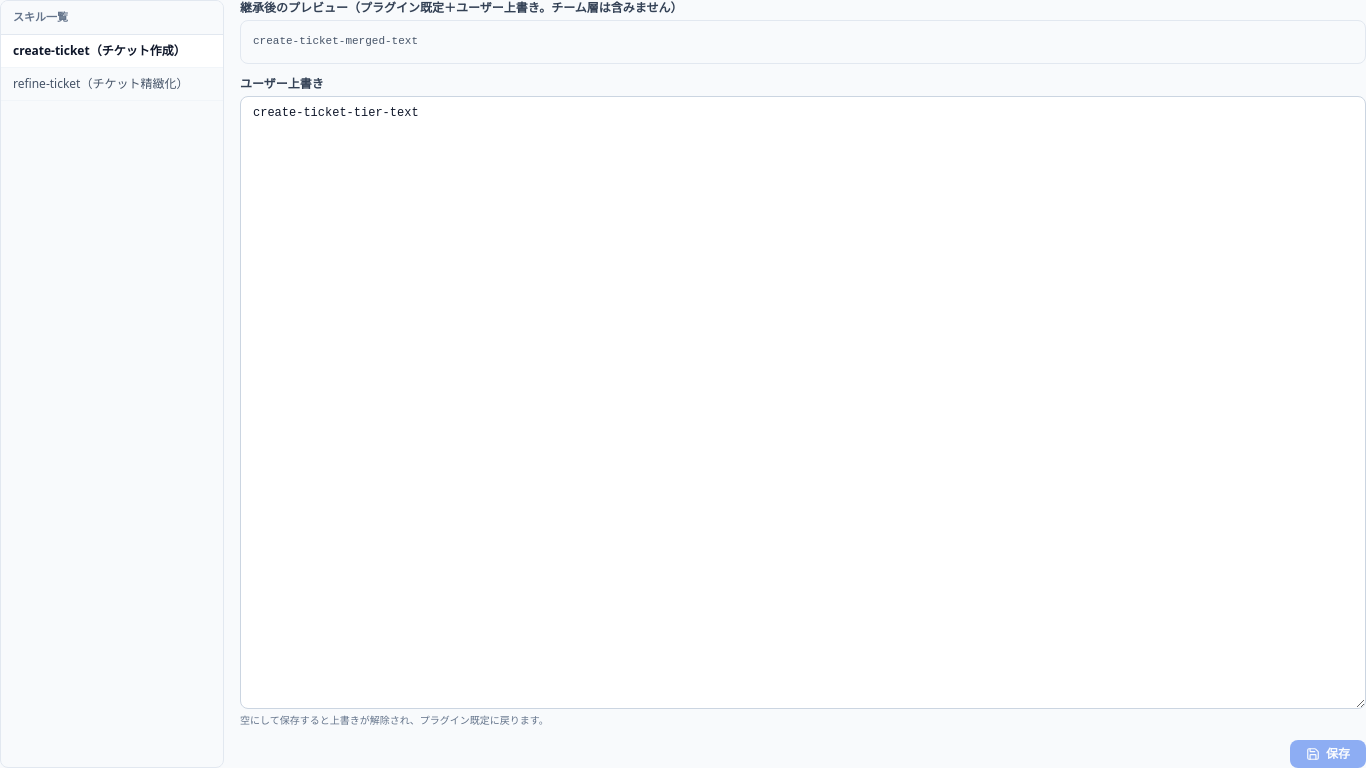
Test: SkillsEditor › switching the selection with unsaved edits › switches and clears the relayed dirty flag when the user confirms
The width and height of the screenshot is (1366, 768).
Replace the text in the text box showing "create-ticket-tier-text" with "unsaved edit" at (803, 402), box 240,96 -> 1365,709
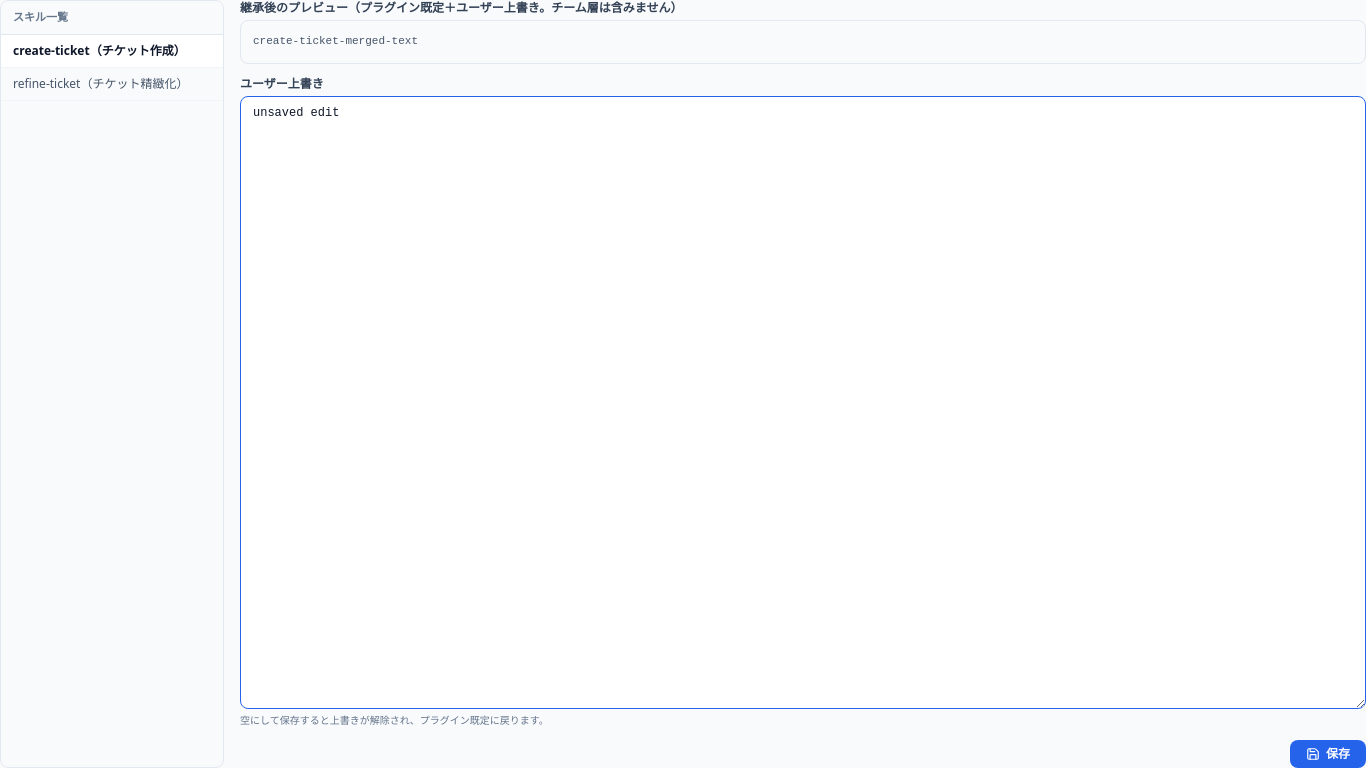
Click the button "refine-ticket（チケット精緻化）".
click(112, 84)  # box 1,68 -> 223,100
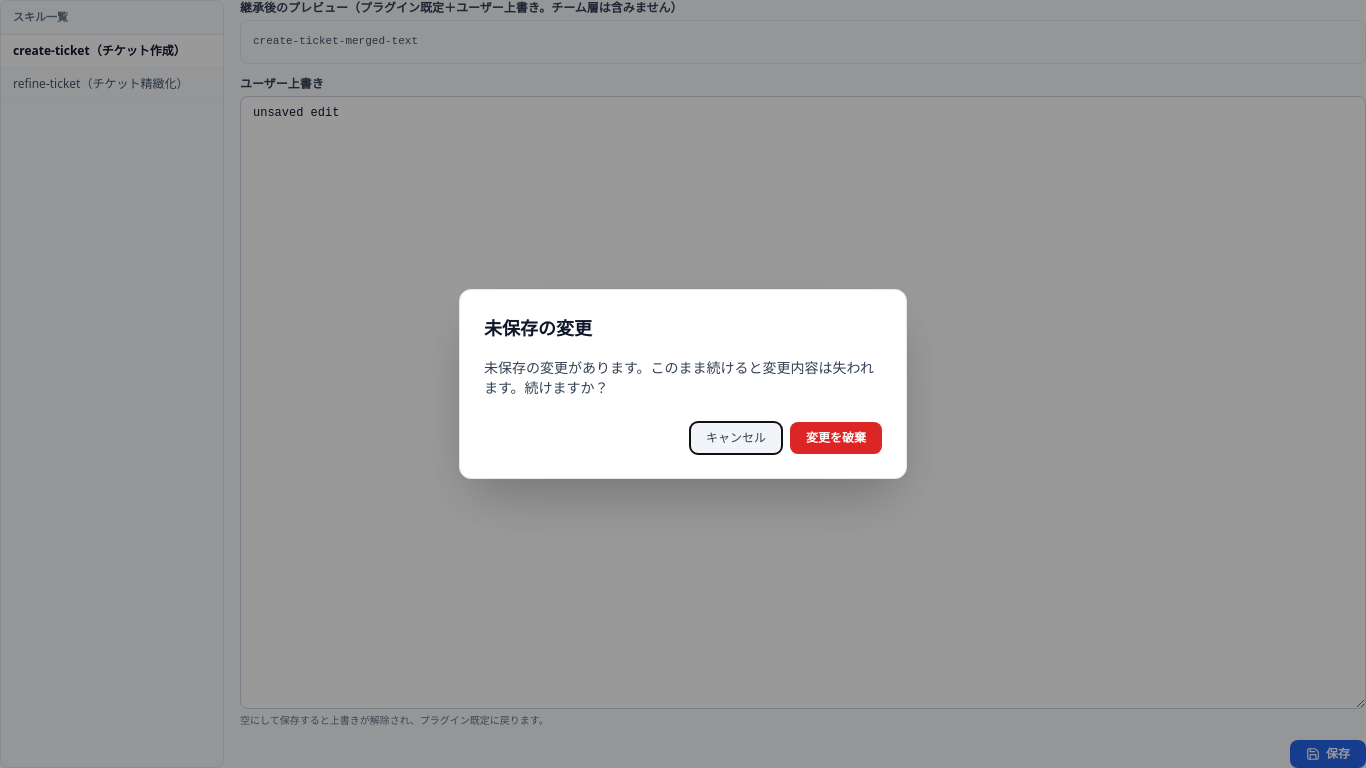
Click the button with test id "skill-discard-confirm-confirm".
click(836, 438)  # box 790,422 -> 882,454
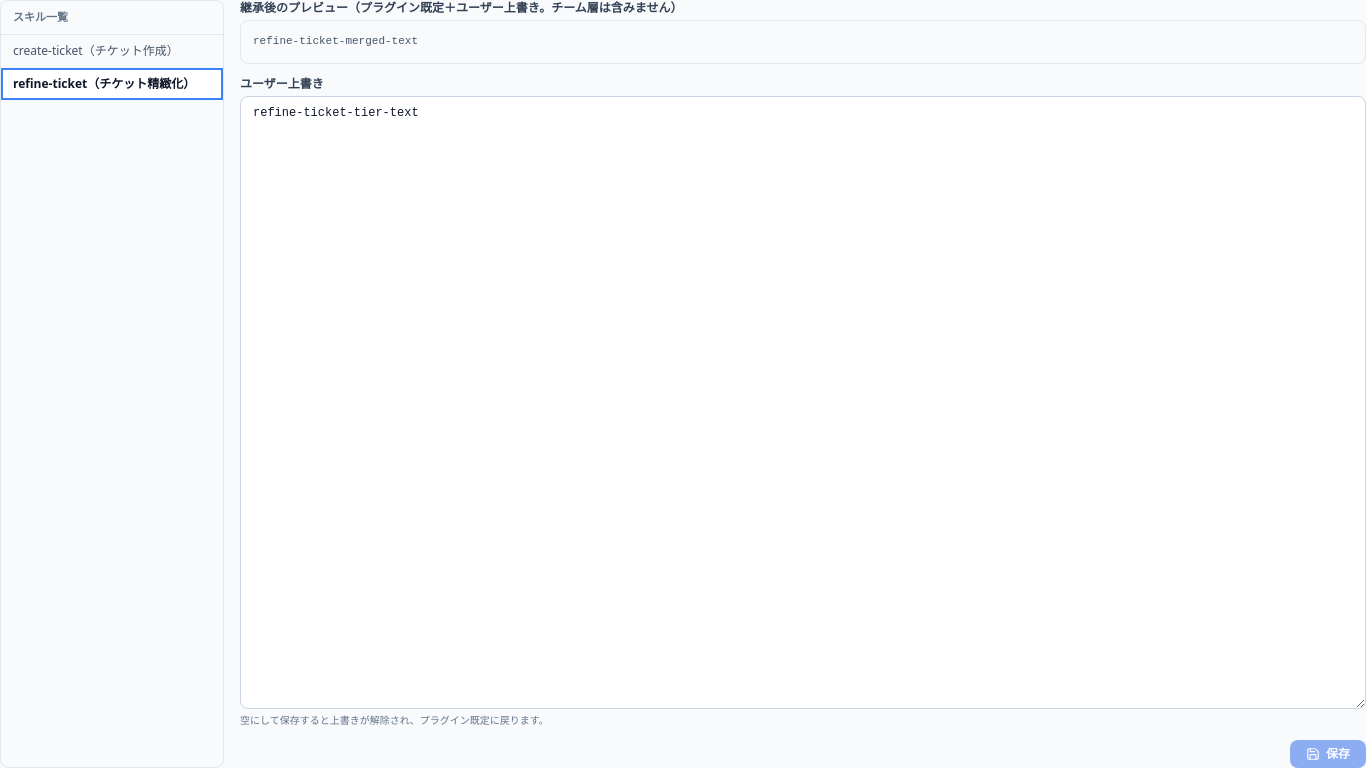
Check: the dialog with test id "skill-discard-confirm" is gone
Check: the text box showing "refine-ticket-tier-text" is shown
